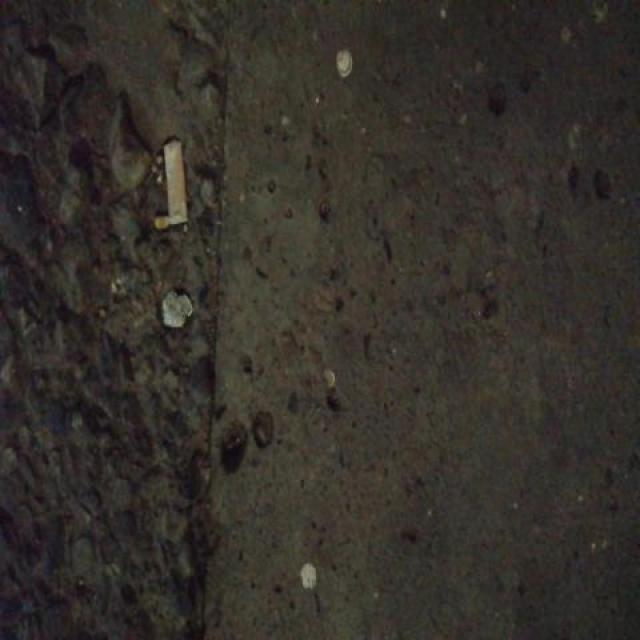non-organic waste: (160, 132, 192, 232)
